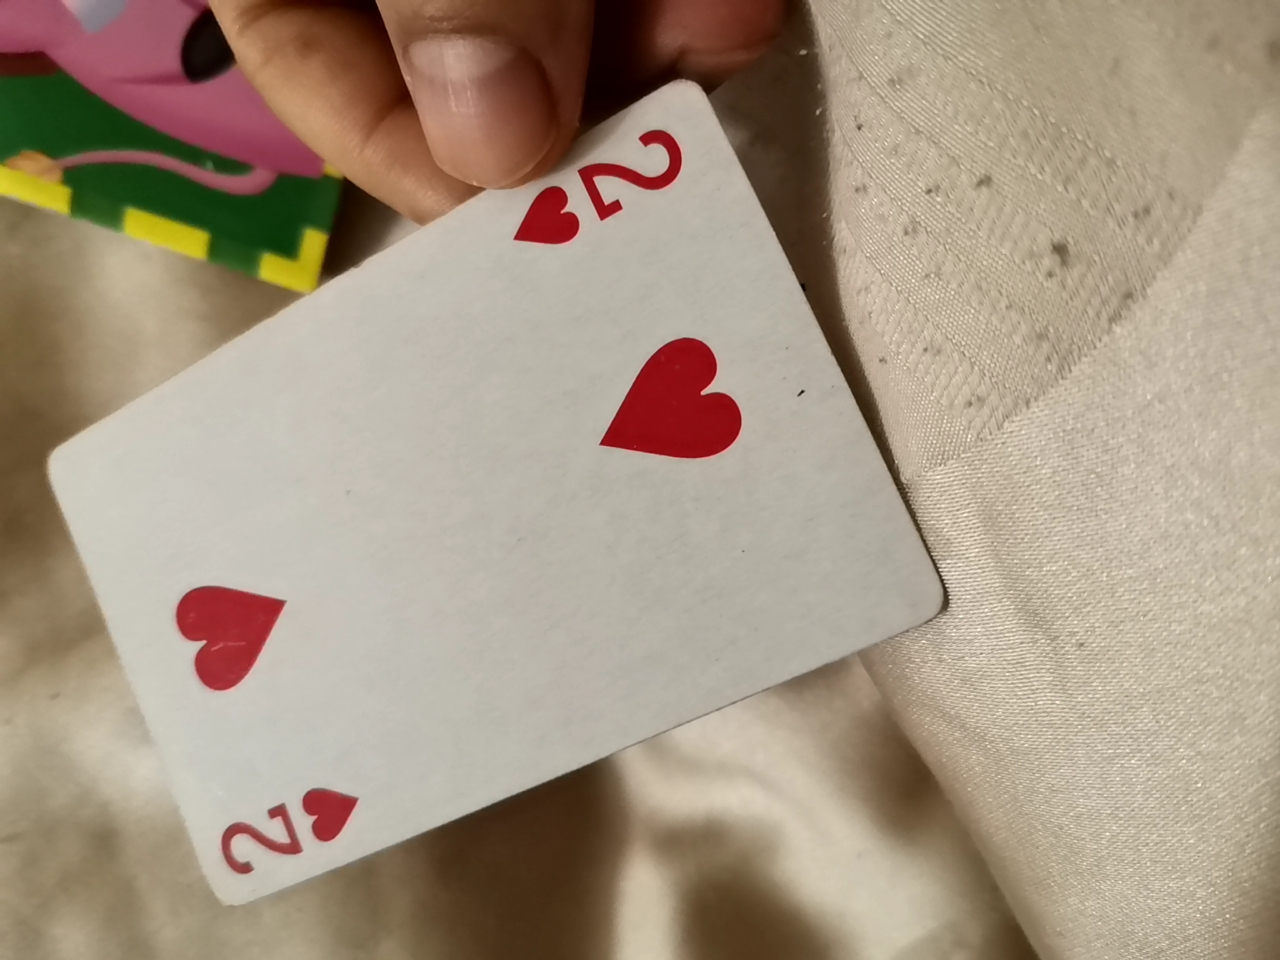hx 2: (52, 76, 951, 914)
